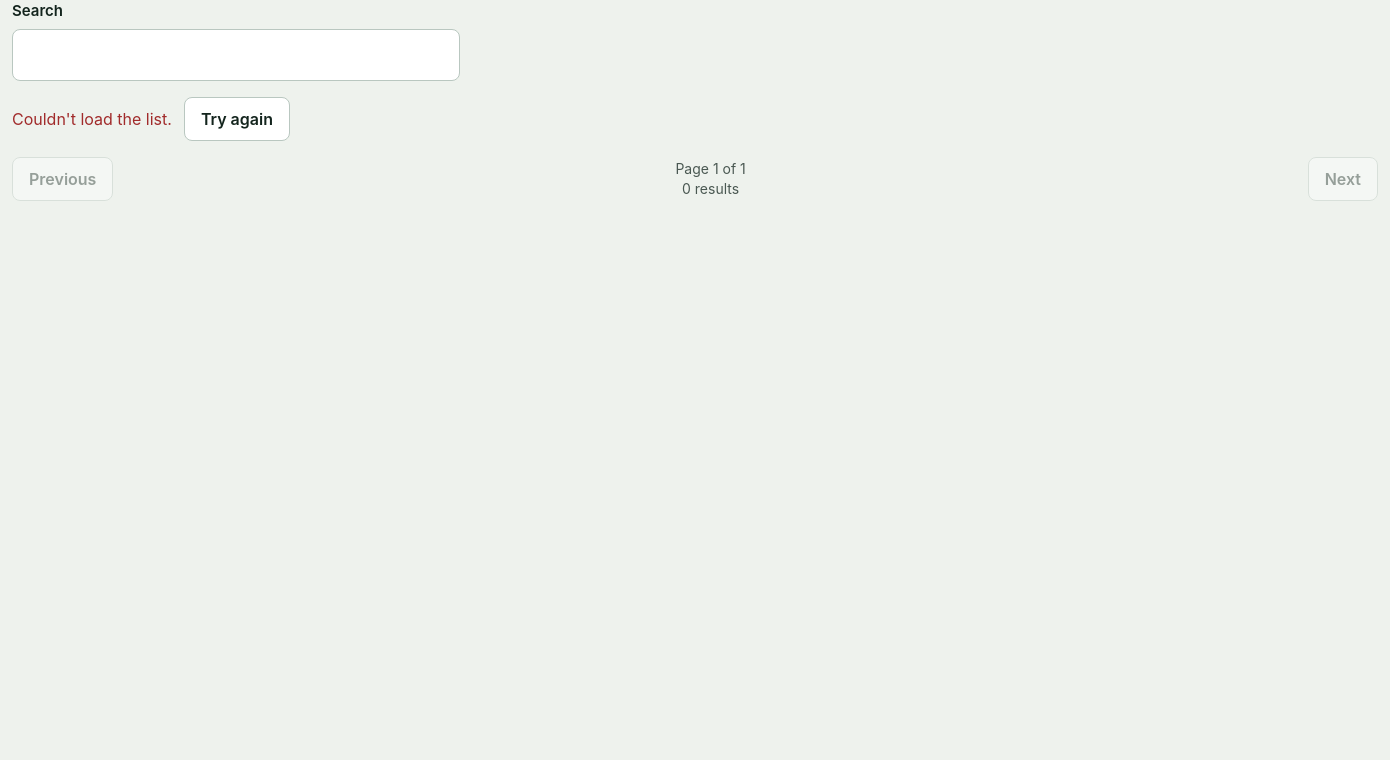
admin LocationsTable › reports a failed load and loads again on request
Expected: the message shows "Couldn't load the list.", [12,108,172,128]
Click the button "Try again" at coordinates (237, 118), box [184,96,290,140]
(page scrolled)
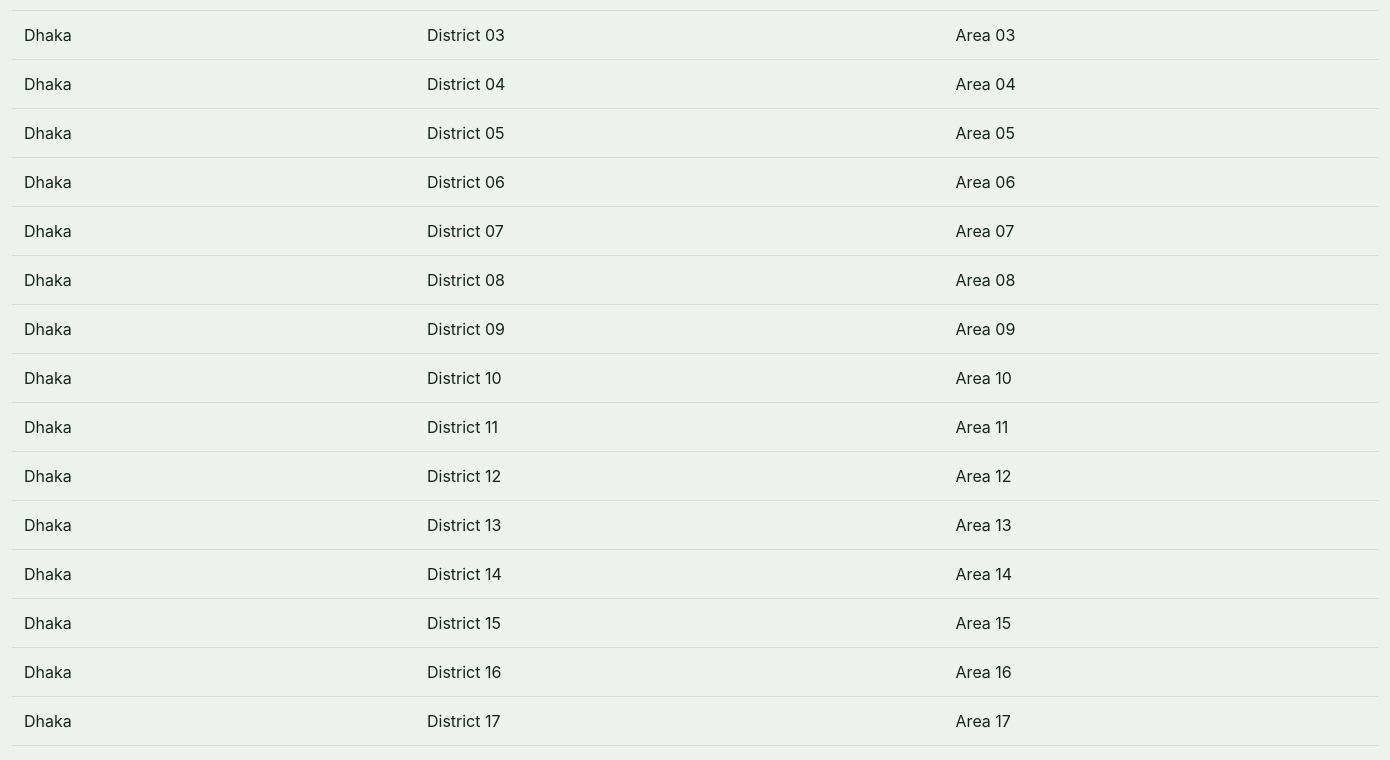
Result: the message "Couldn't load the list. Try again" is gone
